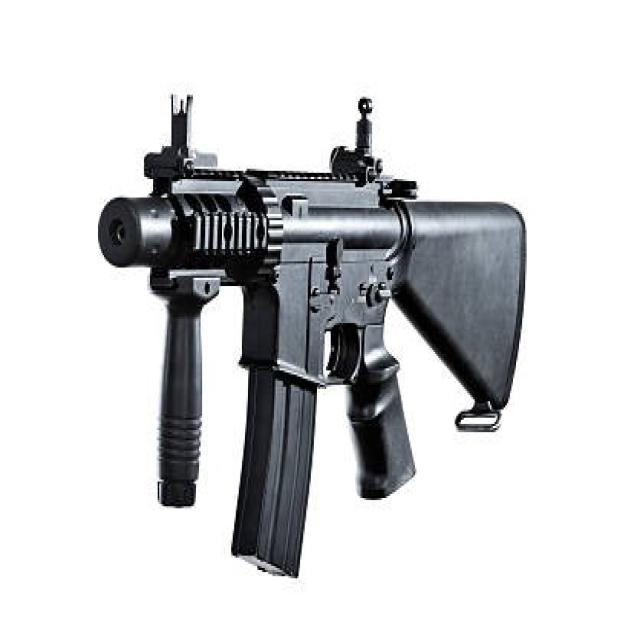rifle: (92, 82, 533, 590)
